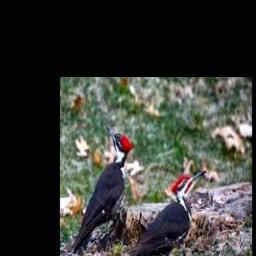Woodpecker: (68, 127, 134, 256), (126, 170, 206, 256)
